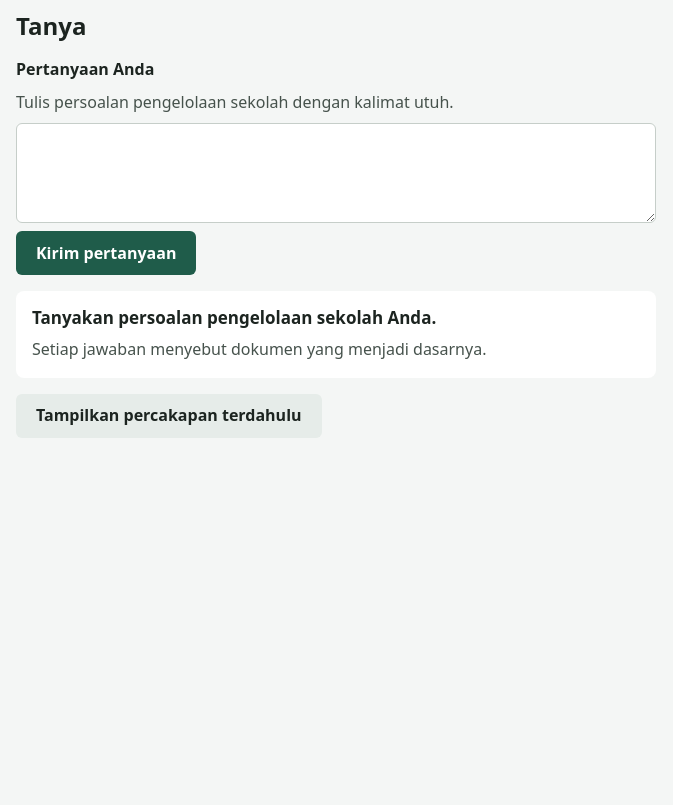
it: R-10: blok nilai jawaban pada keempat status dasar › kuat: tiga pilihan setara
This screenshot has width=673, height=805.
Type "Bagaimana menyusun jadwal supervisi?" into the text box labelled "Pertanyaan Anda" at (336,173), box [16,123,656,223]
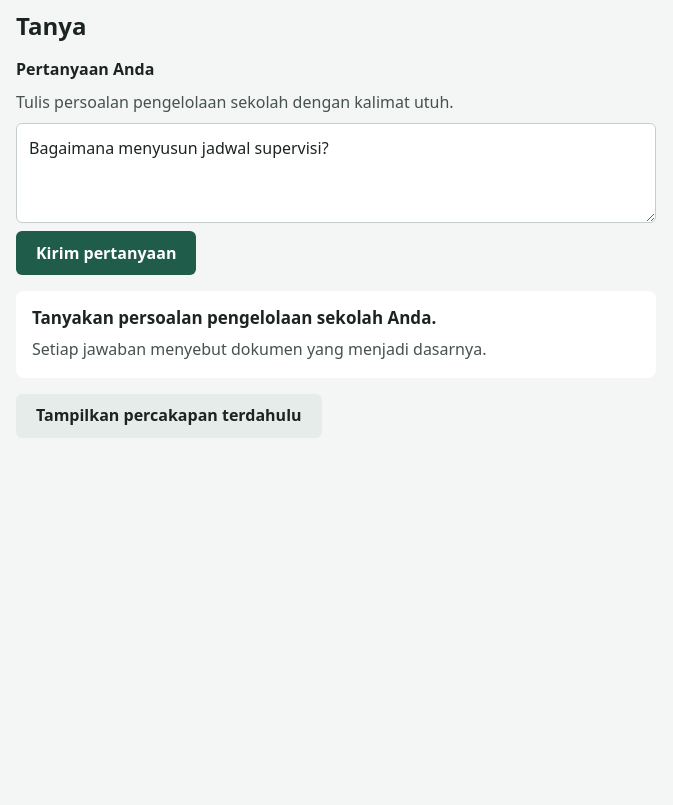
Click the button "Kirim pertanyaan" at (106,253), box [16,231,196,275]
(page scrolled)
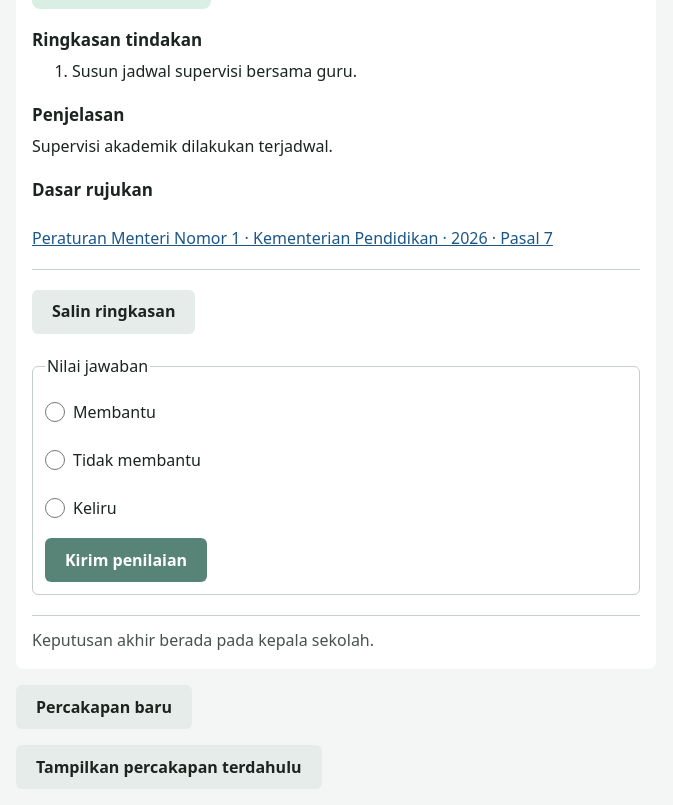
Result: the radio button labelled "Membantu" is shown at [45,402,65,422]
Result: the radio button labelled "Tidak membantu" is shown at [45,450,65,470]
Result: the radio button labelled "Keliru" is shown at [45,498,65,518]
